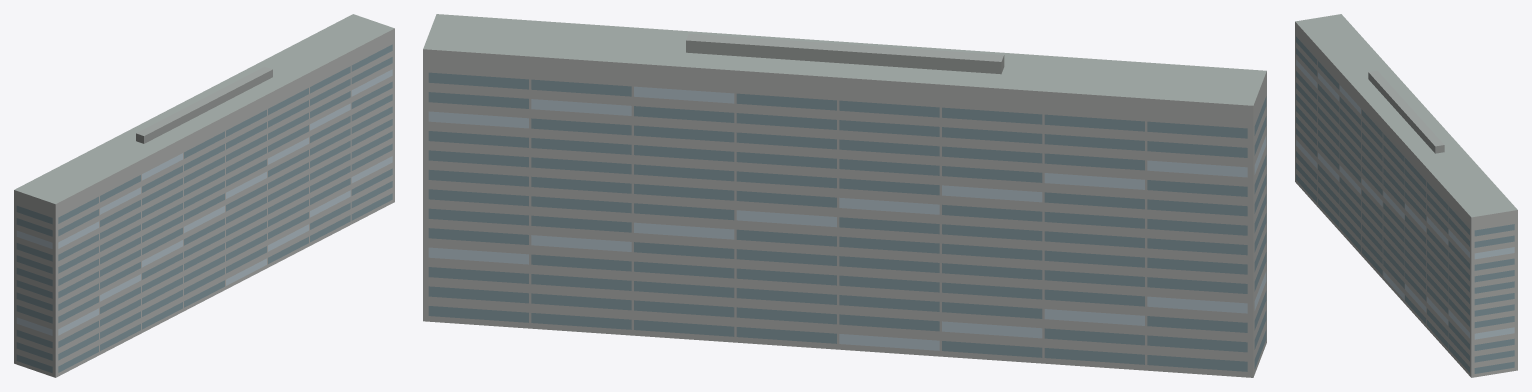
File: fallback-daechi-eunma-3.glb
3 renders of one model, left to right at view 1: azimuth 30°, elevation 25°; view 2: azimuth 150°, elevation 25°; view 3: azimuth 270°, elevation 25°, orthographic. The views are drawn at different scales.
Visible parts, largest first — view 1: fallback-daechi-eunma-3; view 2: fallback-daechi-eunma-3; view 3: fallback-daechi-eunma-3.
Part boxes in pixels (x1,y1,x2,y2): fallback-daechi-eunma-3: [14, 14, 394, 377]; fallback-daechi-eunma-3: [423, 14, 1266, 377]; fallback-daechi-eunma-3: [1295, 14, 1517, 377].
Size of the model in its own units: 116 by 44.62 by 53.72.
